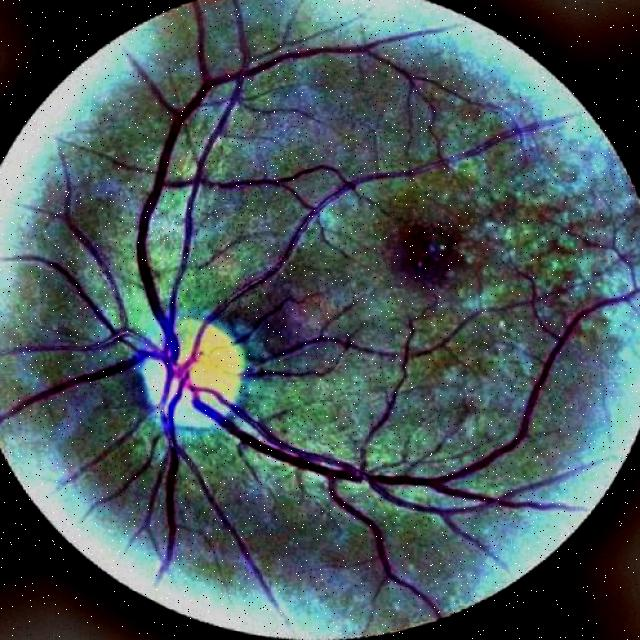Macula: (401, 228, 457, 284)
Nerves: (0, 0, 640, 618)
Optic Disk: (142, 311, 248, 443)
